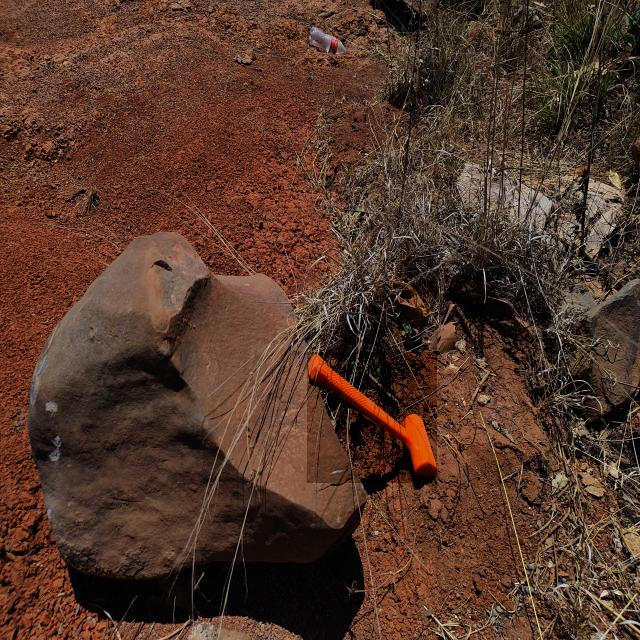Orange_hammer: (307, 352, 437, 483)
